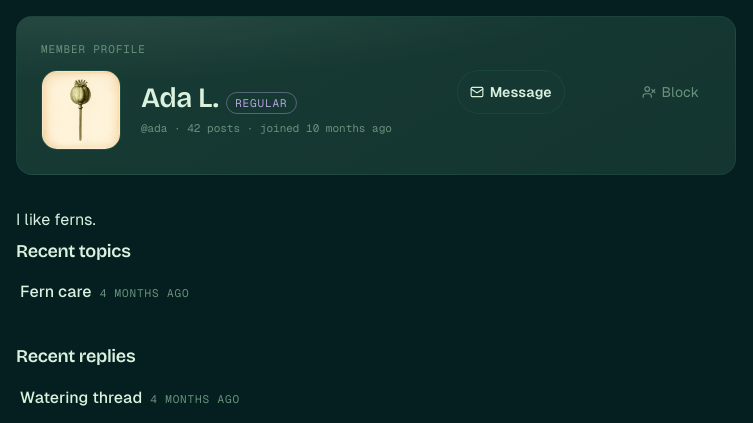
UserProfilePage › announces the block failure for screen readers (audit M4)
The image size is (753, 423).
Click the button "Block".
click(670, 92)  # box [630,70,711,114]
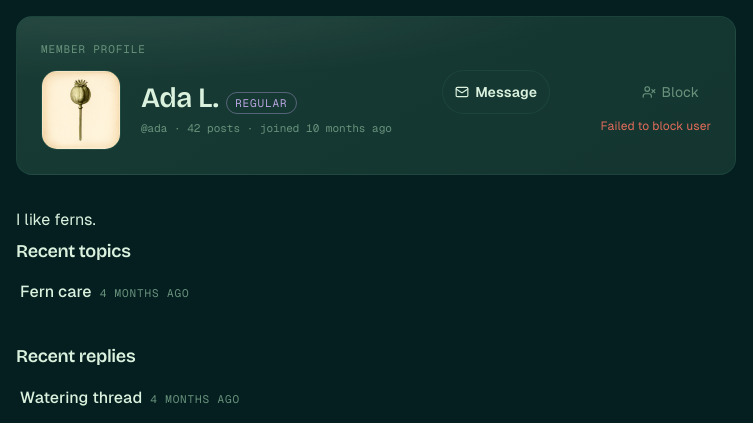
Expected: the text "Failed to block user" is shown, [600,118,711,134]
